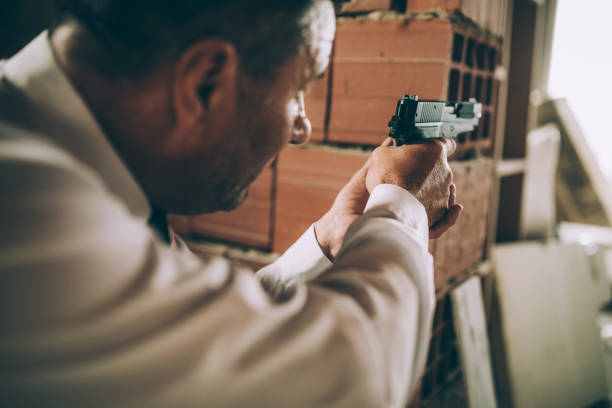gun: (388, 93, 484, 146)
